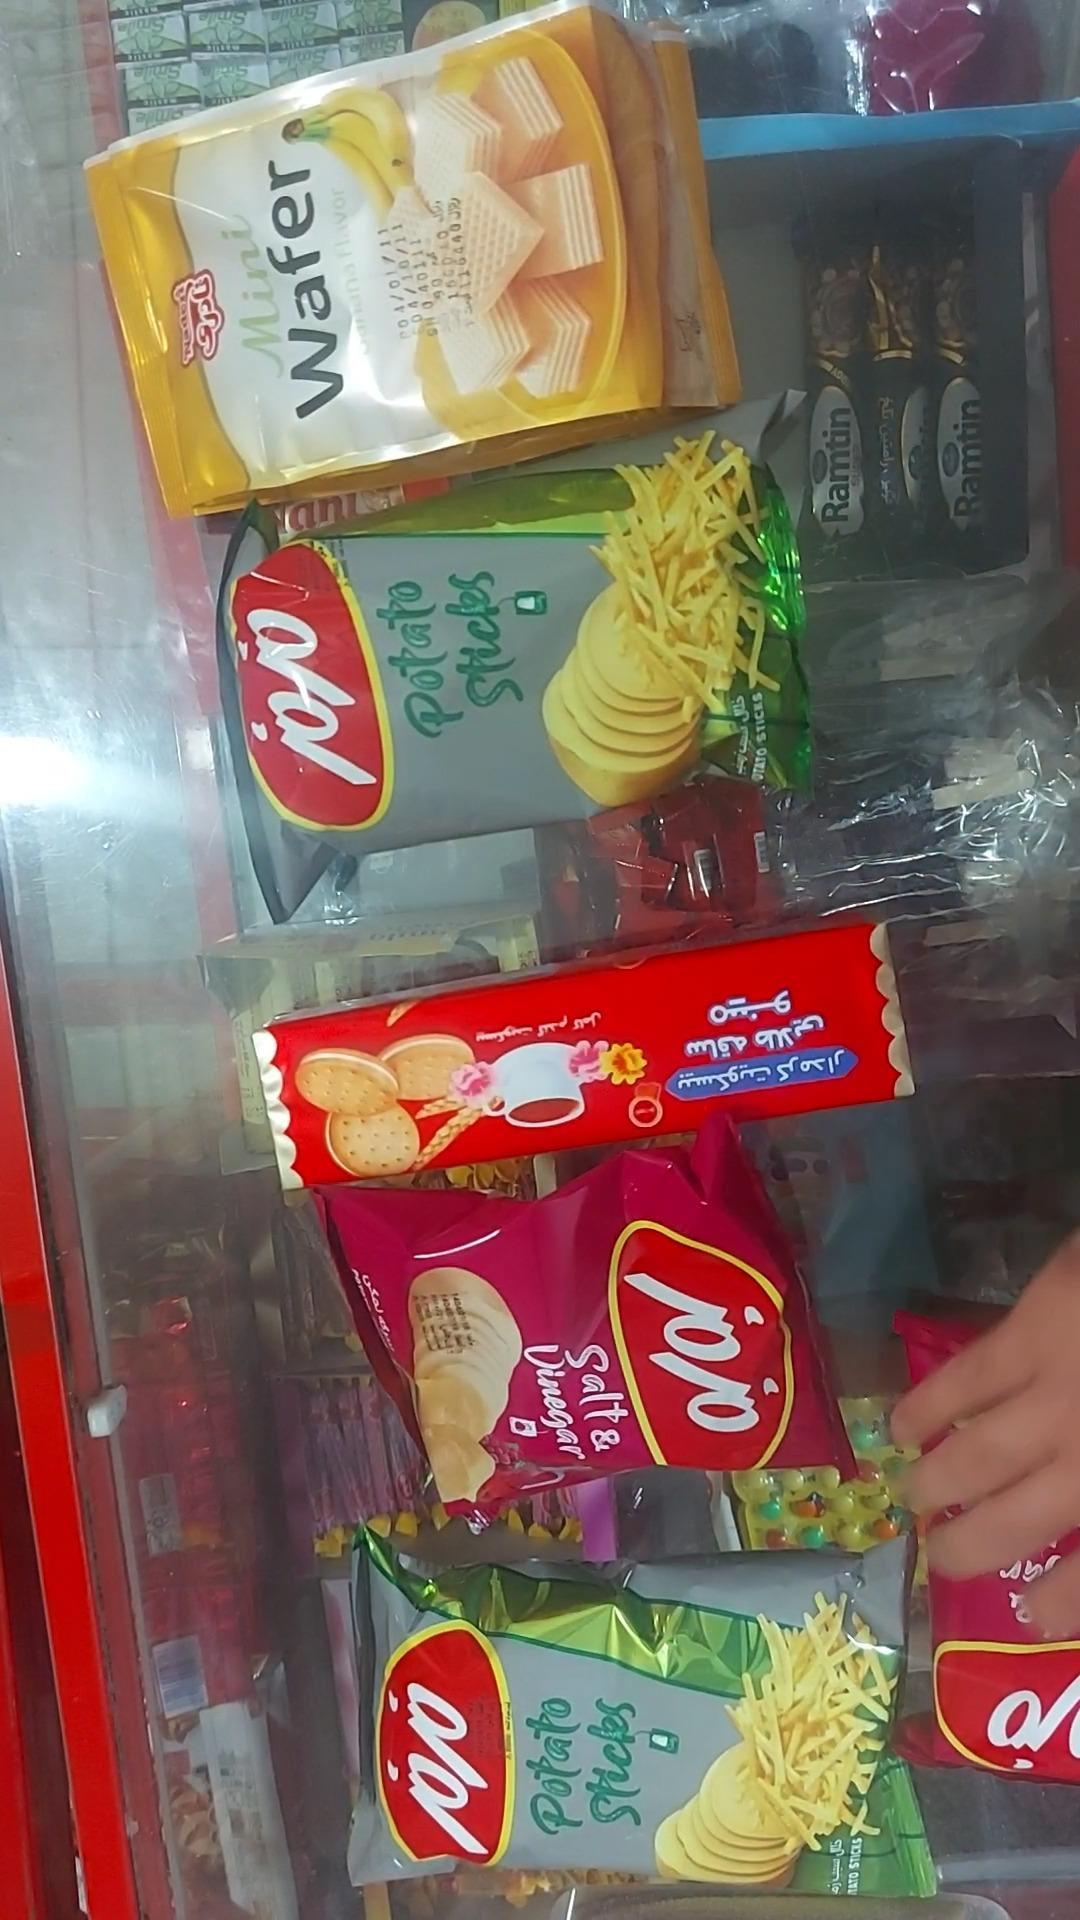Maz Maz potato sticks: (218, 393, 810, 924), (348, 1528, 938, 1896)
Maz Maz vinegar chips: (316, 1120, 857, 1520), (899, 1528, 1079, 1783), (905, 1319, 978, 1381)
Minoo cream biscuit: (255, 923, 913, 1188)
Naderi mini wafer: (88, 0, 736, 514)
